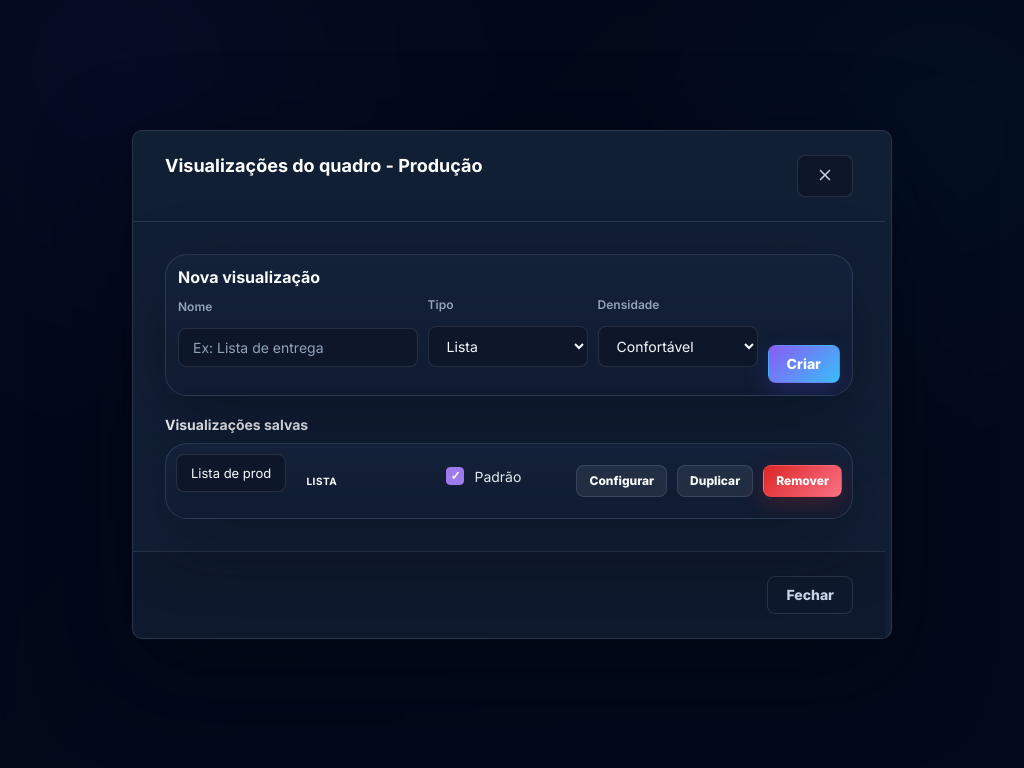
it: renderiza visualizações e abre configuração visual
Expected: the text "Visualizações salvas" is shown, [165, 416, 308, 432]
Expected: the field showing "Lista de produção" is shown, [176, 454, 286, 492]
Click the button "Configurar": (622, 480) [576, 464, 667, 496]
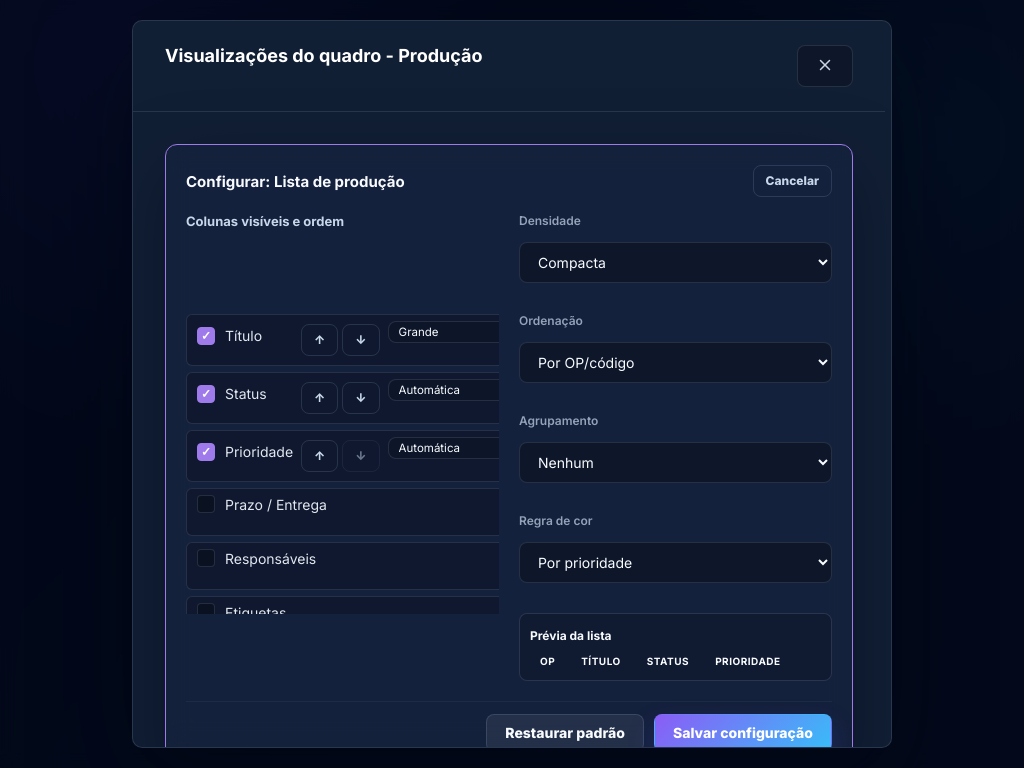
Result: the text "Colunas visíveis e ordem" is shown at [186, 214, 344, 230]
Result: the text "Prévia da lista" is shown at [530, 628, 612, 644]
